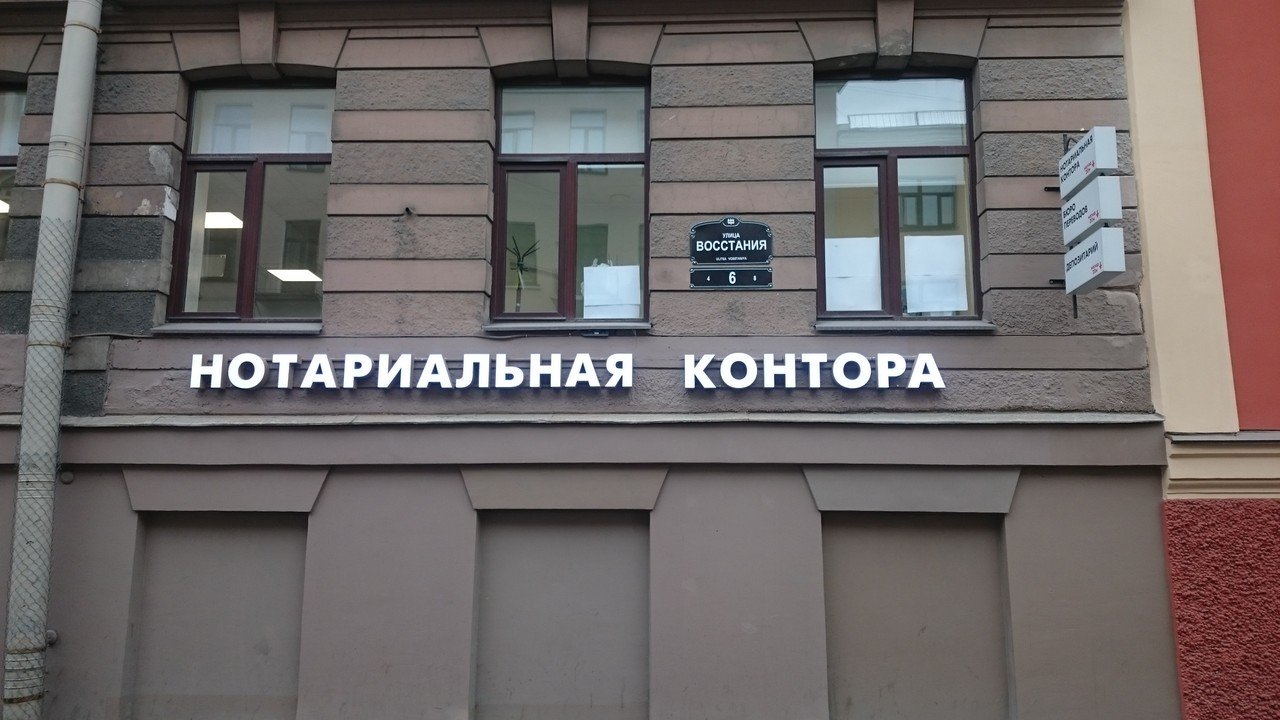cantilever: (1041, 122, 1129, 328)
signboard: (186, 346, 946, 396)
window: (167, 78, 333, 321), (815, 63, 972, 319), (493, 74, 649, 324)
